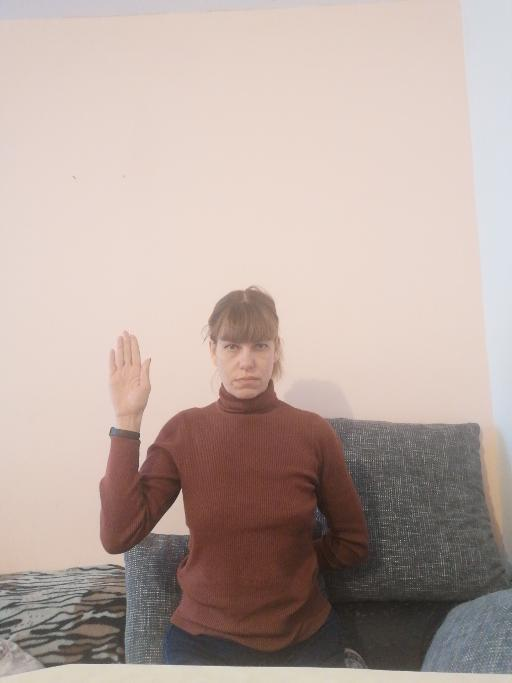stop: (105, 327, 154, 420)
